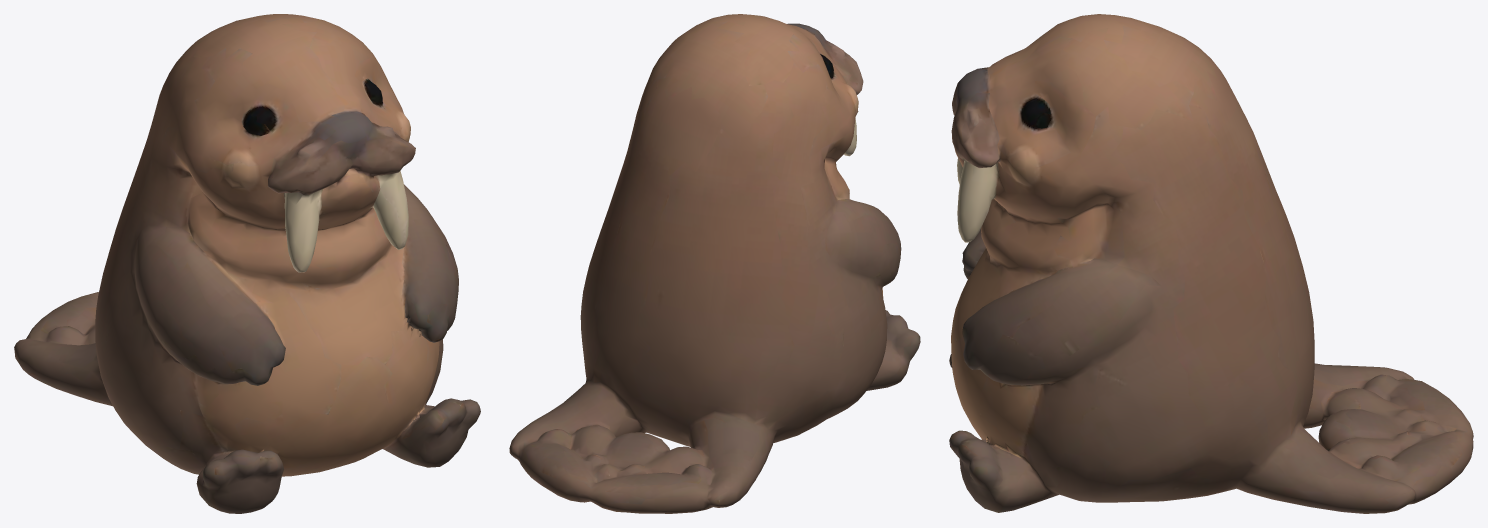
Rendered from walrus.glb.
3 views of the same model, side by side, from view 1: azimuth 30°, elevation 25°; view 2: azimuth 150°, elevation 25°; view 3: azimuth 270°, elevation 25° (orthographic). The views are drawn at different scales.
Bounding box in the file's own units: 0.6743 × 0.9292 × 1.01.
Materials: 1 (1 with a texture image).
